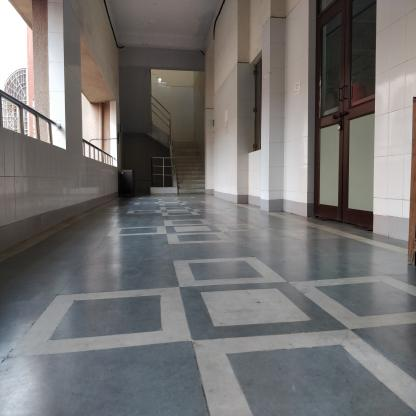stairs: (179, 157, 204, 196)
